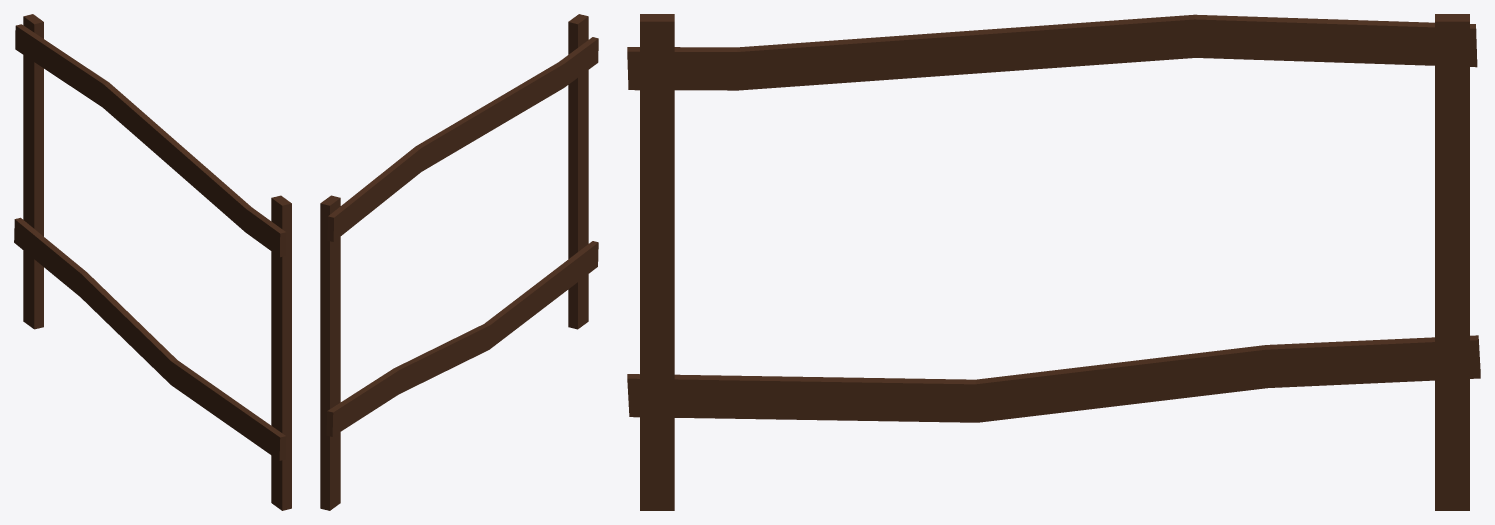
File: WoodFence2.fbx
3 views of the same model, side by side, from view 1: azimuth 30°, elevation 25°; view 2: azimuth 150°, elevation 25°; view 3: azimuth 270°, elevation 25° (orthographic). The views are drawn at different scales.
Parts seen in each view (by area): view 1: Cube.009; view 2: Cube.009; view 3: Cube.009.
Boxes of the visible parts, x1,y1,x2,y2 form: Cube.009: (14,14,291,510); Cube.009: (320,14,598,510); Cube.009: (627,14,1480,510).
Size of the model in its own units: 19.58 by 365 by 576.
